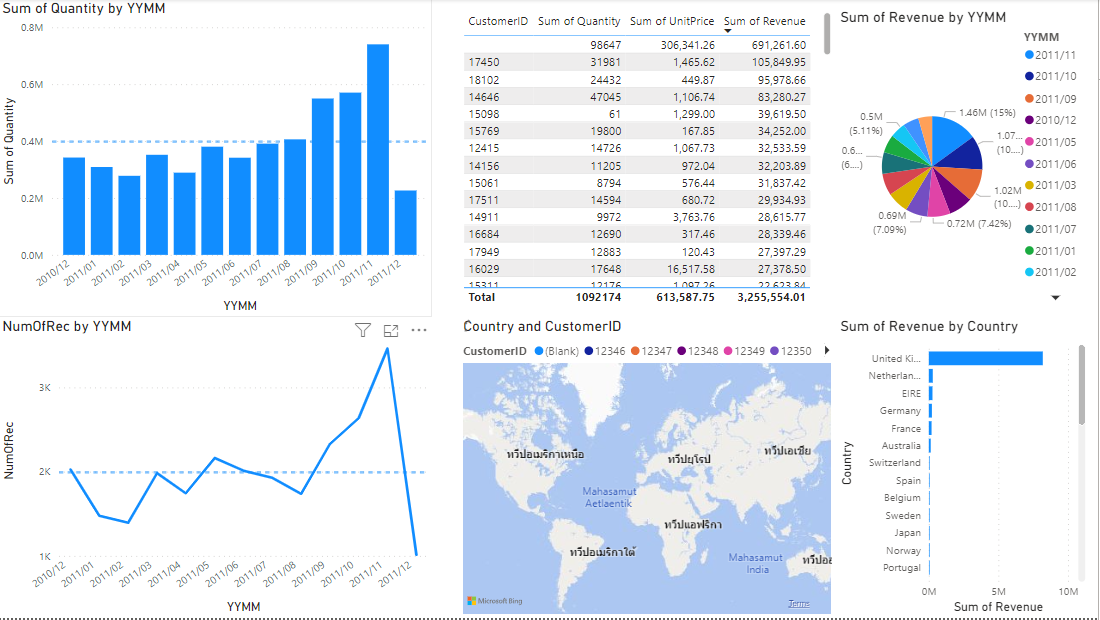

The dashboard page shown, as its layout file describes it:
{"tool":"powerbi","page":{"name":"Page 1","canvas":[1280,720],"ordinal":0},"visuals":[{"type":"lineChart","fields":{"Category":["Online Retail.YYMM"],"Y":["Online Retail.NumOfRec"]},"box":[0,369.7,505.3,350],"z":0},{"type":"tableEx","fields":{"Values":["Online Retail.CustomerID","Sum(Online Retail.Quantity)","Sum(Online Retail.UnitPrice)","Sum(Online Retail.Revenue)"]},"box":[536.8,10.5,438.2,350],"z":1000},{"type":"clusteredColumnChart","fields":{"Category":["Online Retail.YYMM"],"Y":["Sum(Online Retail.Quantity)"]},"box":[0,0,505.3,369.7],"z":2000},{"type":"map","fields":{"Category":["Online Retail.Country"],"Series":["Online Retail.CustomerID"]},"box":[536.8,369.7,438.2,350],"z":3000},{"type":"pieChart","fields":{"Y":["Sum(Online Retail.Revenue)"],"Category":["Online Retail.YYMM"]},"box":[975,10.5,294.7,350],"z":4000},{"type":"barChart","fields":{"Y":["Sum(Online Retail.Revenue)"],"Category":["Online Retail.Country"]},"box":[975,370,295,350],"z":5000}]}

Visuals, with their boxes in screenshot pixels (x1, y1, x2, y2), scaled from the page's 1280x720 canvas onto the 1100x620 screenshot:
lineChart - Online Retail.YYMM x Online Retail.NumOfRec: [0,318,434,619]
tableEx - Online Retail.CustomerID x Sum(Online Retail.Quantity): [461,9,838,310]
clusteredColumnChart - Online Retail.YYMM x Sum(Online Retail.Quantity): [0,0,434,318]
map - Online Retail.Country x Online Retail.CustomerID: [461,318,838,619]
pieChart - Sum(Online Retail.Revenue) x Online Retail.YYMM: [838,9,1091,310]
barChart - Sum(Online Retail.Revenue) x Online Retail.Country: [838,319,1091,619]
